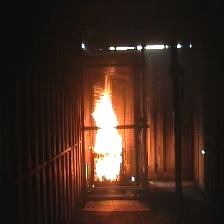fire: (83, 84, 125, 176)
